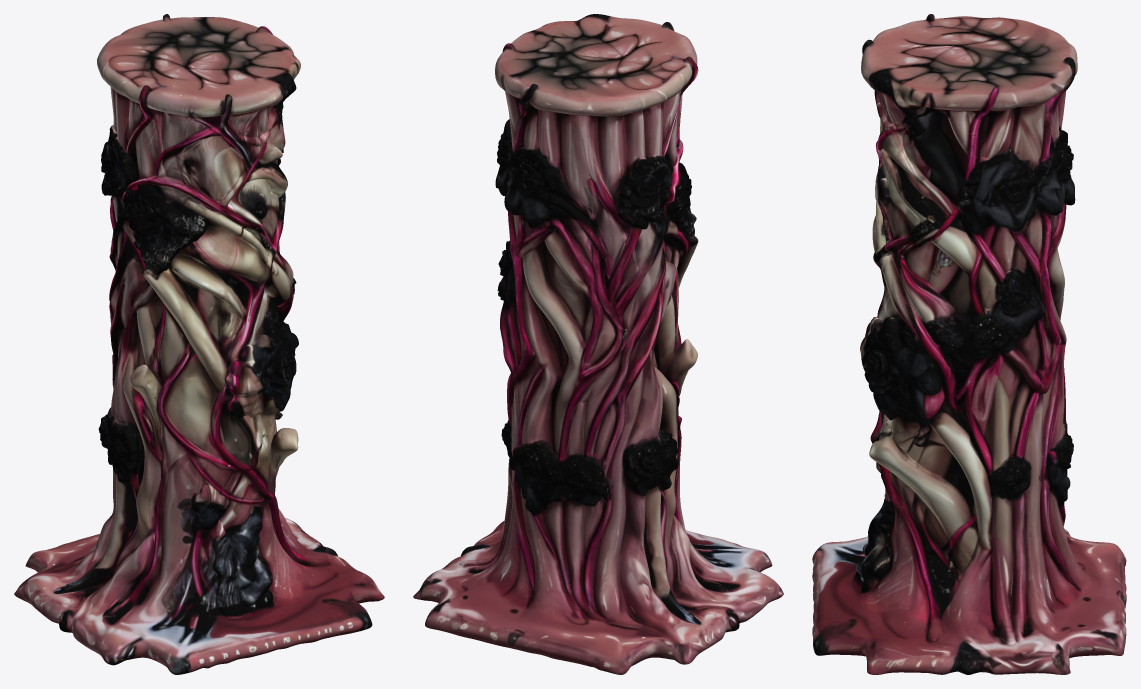
The model's file is decor_flesh_pillar.gltf.
The picture shows the model from 3 angles, left to right: view 1: azimuth 30°, elevation 25°; view 2: azimuth 150°, elevation 25°; view 3: azimuth 270°, elevation 25°; orthographic projection. The views are drawn at different scales.
Parts seen in each view (by area): view 1: model; view 2: model; view 3: model.
Part boxes in pixels (left/top/right/bottom): model: left=14, top=14, right=384, bottom=674; model: left=413, top=14, right=783, bottom=674; model: left=812, top=14, right=1126, bottom=674.
Bounding box in the file's own units: 0.9109 × 1.71 × 0.8712.
1 material, 1 textured.
